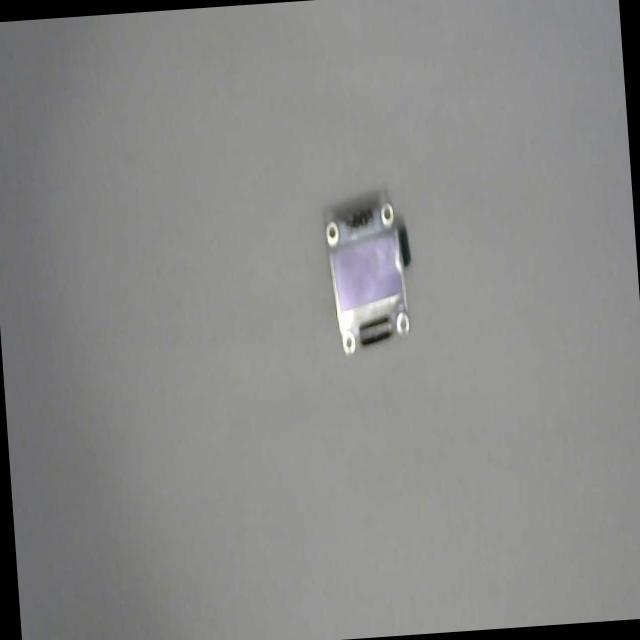oled: (319, 191, 422, 367)
